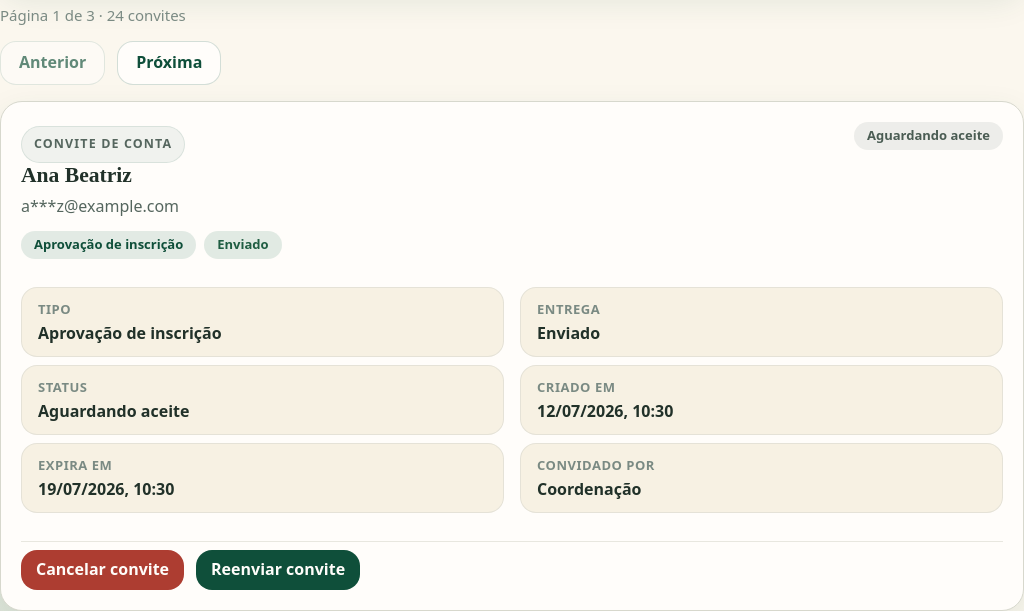
AdminAccountInvitationsPage › resposta antiga nao sobrescreve recarga apos reenvio
(page scrolled)
Check: the heading "Ana Beatriz" is shown, box [21, 163, 132, 187]
Click the button "Reenviar convite": (278, 570) [196, 550, 360, 590]
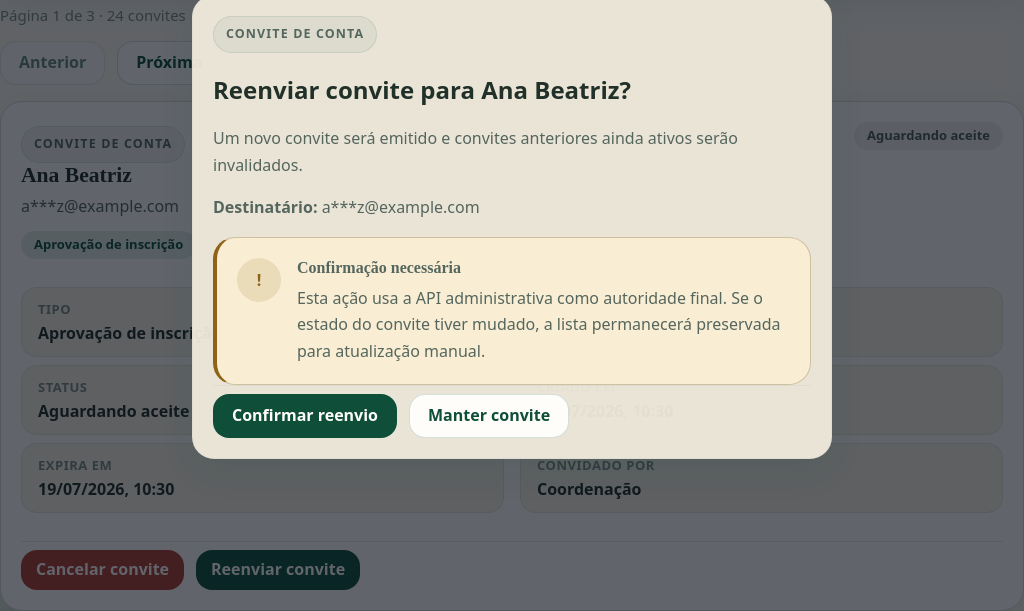
Click the button "Confirmar reenvio": (305, 416) [213, 394, 397, 438]
(page scrolled)
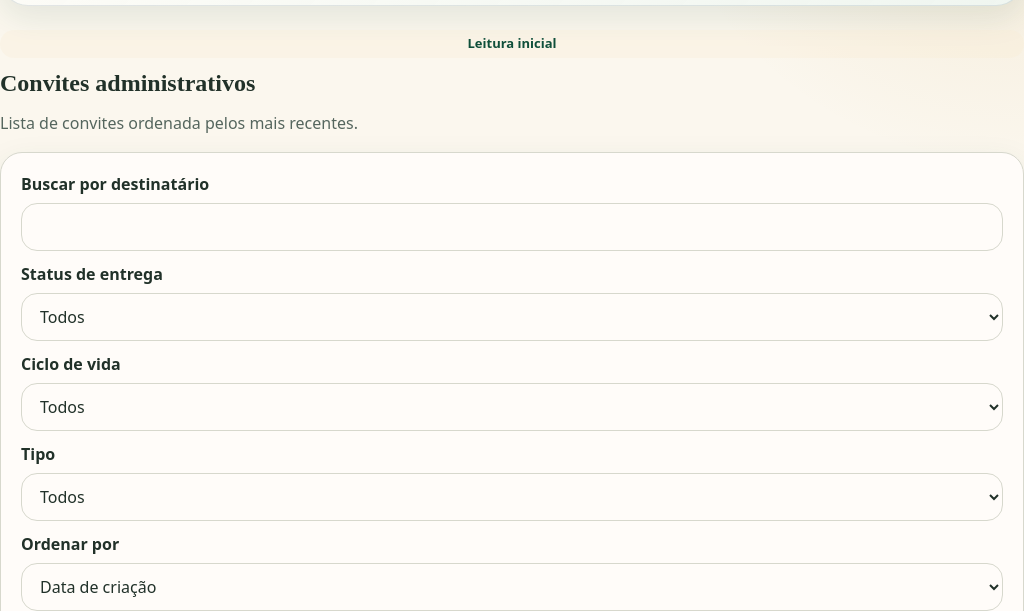
In the field labelled "Buscar por destinatário": (512, 227) [21, 203, 1003, 251], type "Convite"
(page scrolled)
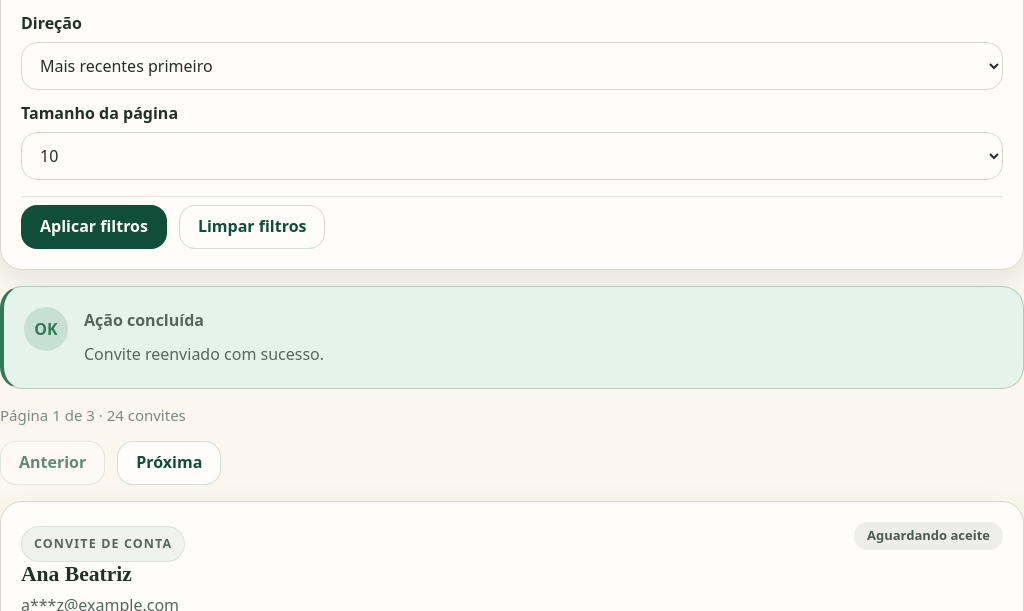
Click the button "Aplicar filtros": (94, 227) [21, 205, 167, 249]
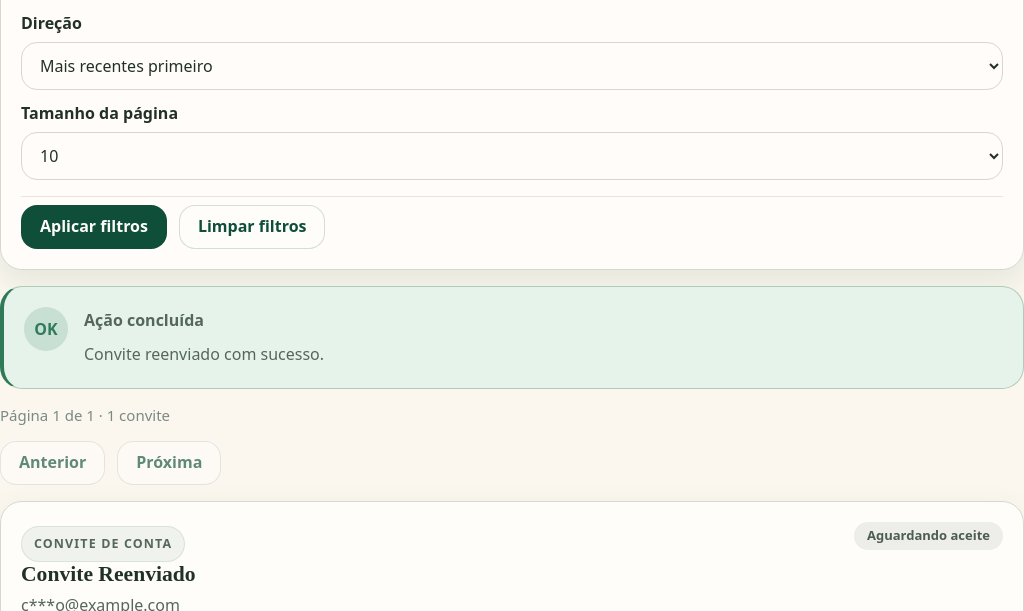
Check: the heading "Convite Reenviado" is shown, box [21, 562, 196, 588]
Check: the heading "Ana Beatriz" is gone
